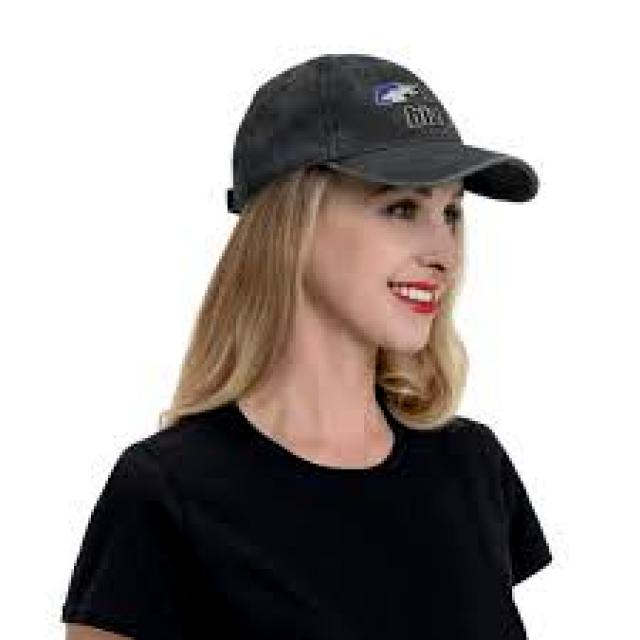hat: (228, 55, 537, 213)
